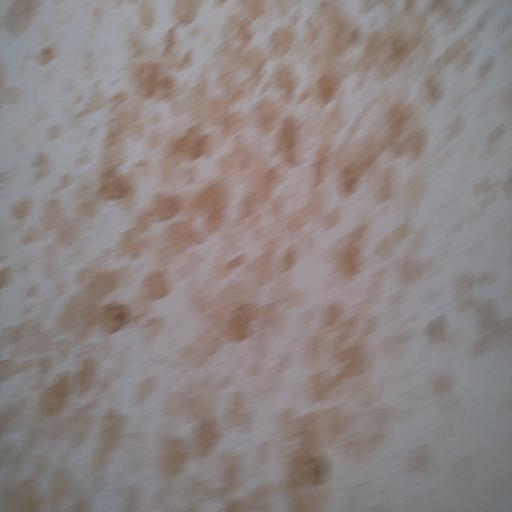stain: (11, 0, 488, 512)
